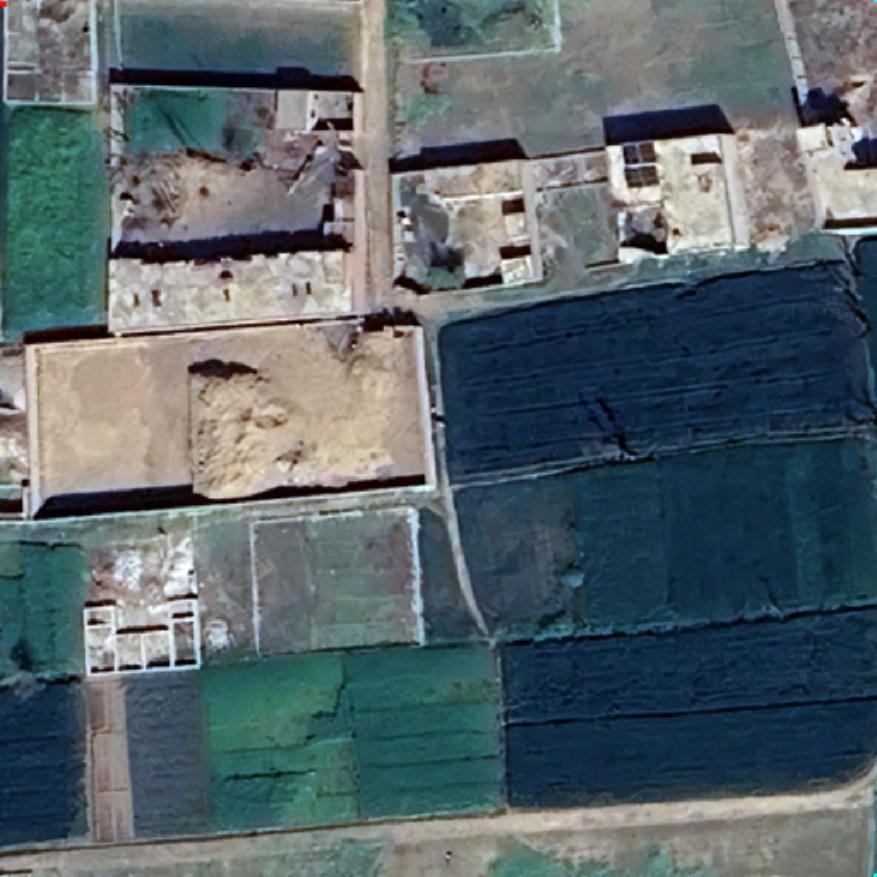Solarpanel: (620, 138, 662, 190)
